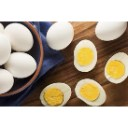begg: (76, 78, 107, 106), (40, 81, 71, 107), (5, 23, 33, 50), (6, 53, 36, 77), (47, 22, 73, 49), (75, 38, 96, 71)
